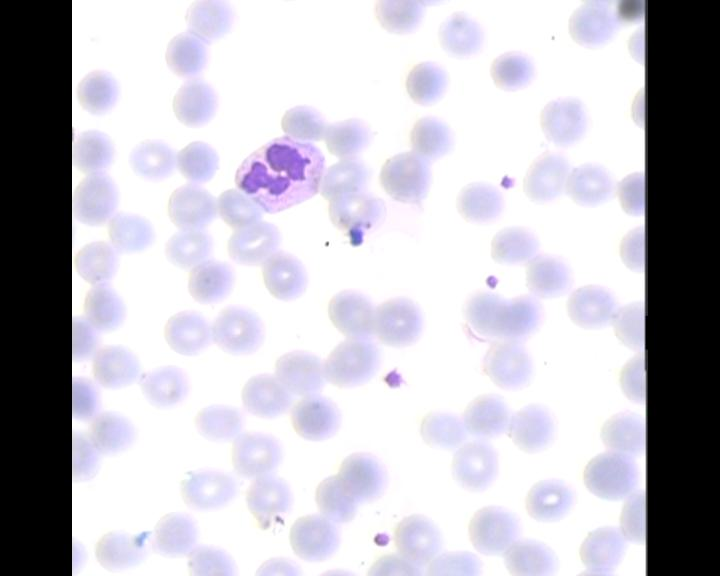neut: (229, 124, 328, 214)
